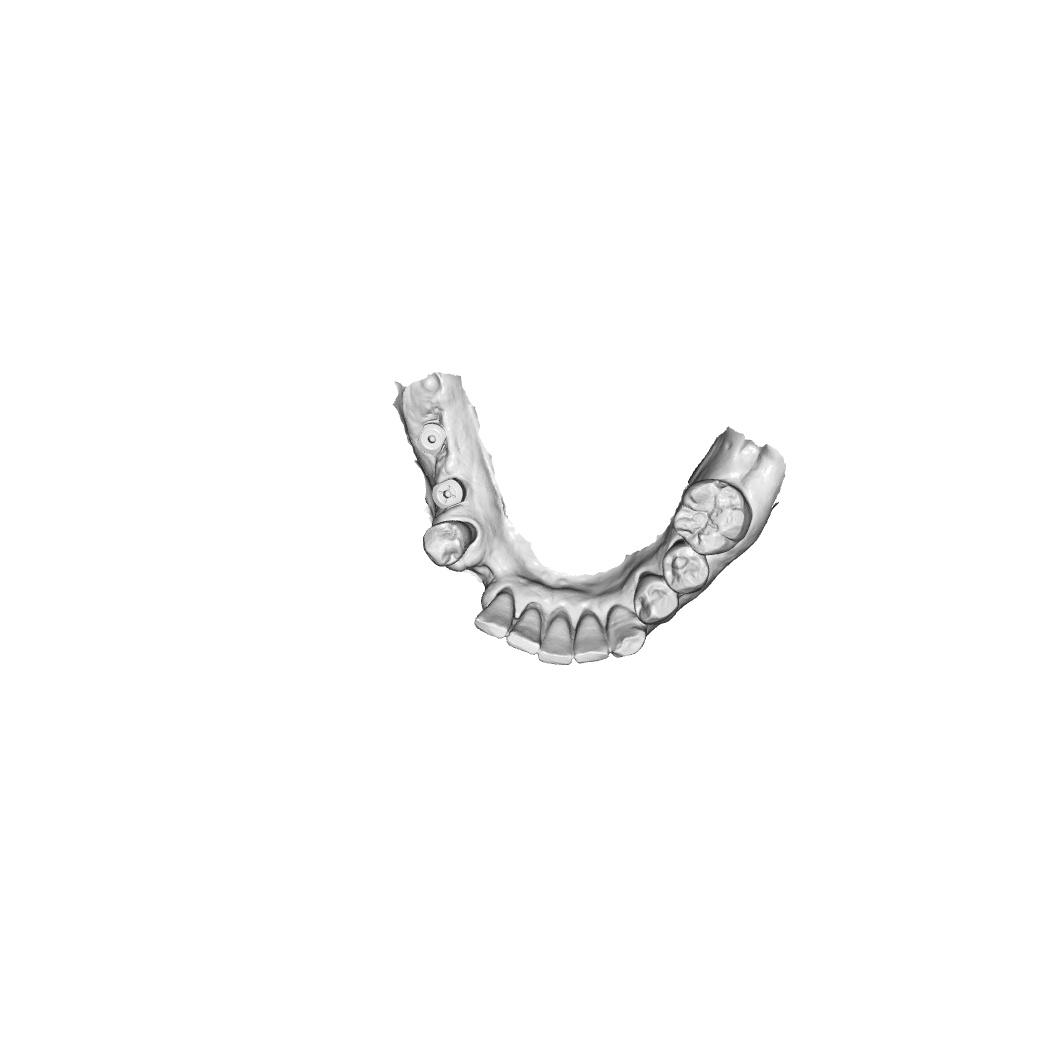canine: (606, 603, 648, 658)
implant: (417, 422, 448, 457)
implant_plus: (431, 477, 467, 510)
incisor: (473, 590, 516, 639), (537, 611, 574, 667), (573, 610, 610, 665), (506, 602, 542, 656)
molar: (672, 477, 754, 556)
premolar: (421, 519, 479, 568), (662, 539, 711, 595), (632, 572, 680, 625)
